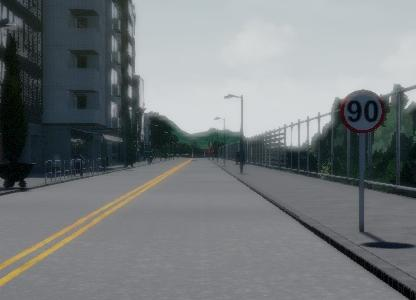Speed_90: (339, 88, 388, 136)
